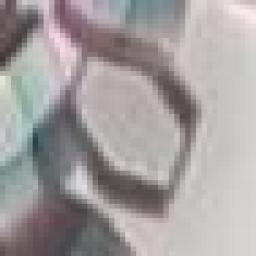crystals: (52, 37, 201, 221)
